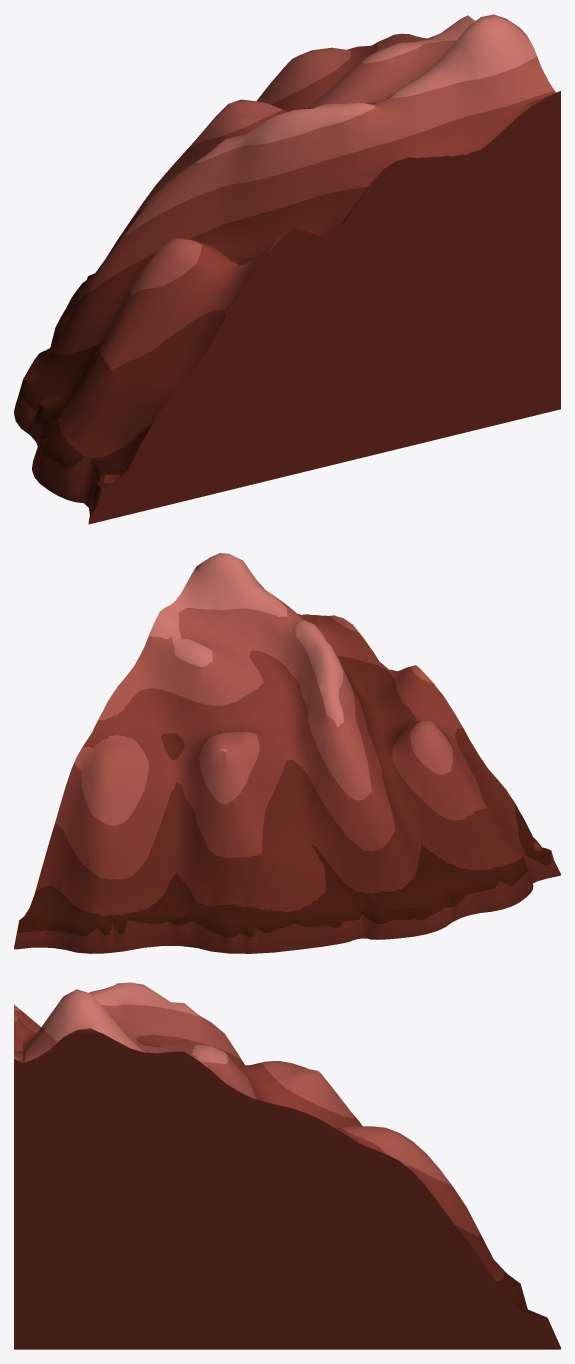
The model's file is brain_top_l.glb.
The picture shows the model from 3 angles, top to bottom: view 1: azimuth 30°, elevation 25°; view 2: azimuth 150°, elevation 25°; view 3: azimuth 270°, elevation 25°; orthographic projection. The views are drawn at different scales.
Visible parts, largest first — view 1: hemispheres; view 2: hemispheres; view 3: hemispheres.
Boxes of the visible parts, x1,y1,x2,y2 form: hemispheres: [14, 14, 560, 524]; hemispheres: [14, 553, 560, 953]; hemispheres: [14, 982, 560, 1349].
Size of the model in its own units: 22.24 by 16.8 by 24.4.
